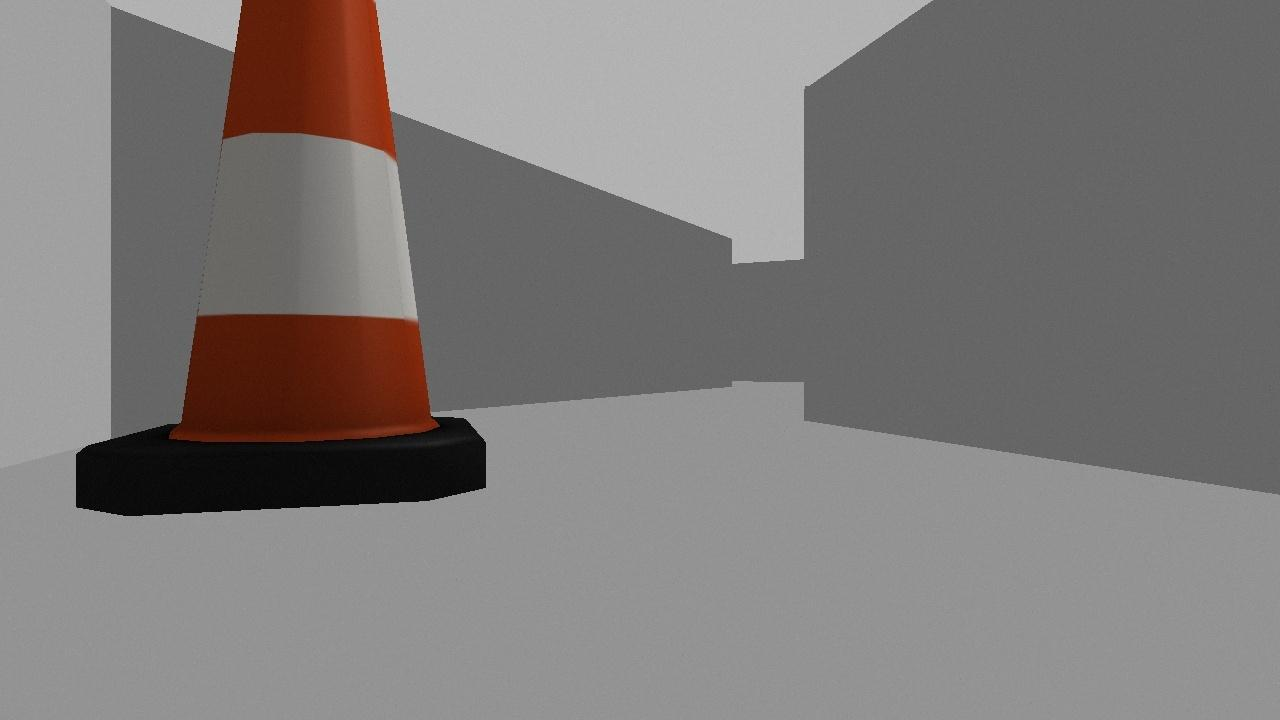cone_barrel: (73, 0, 486, 515)
